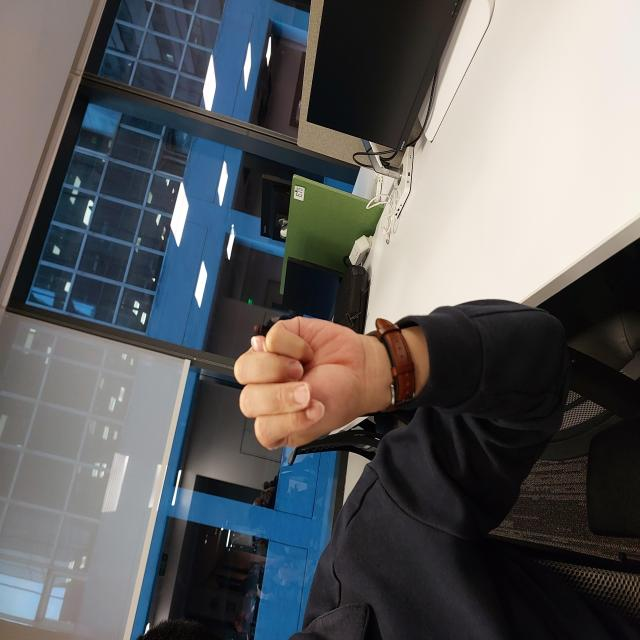M: (192, 232, 324, 356)
